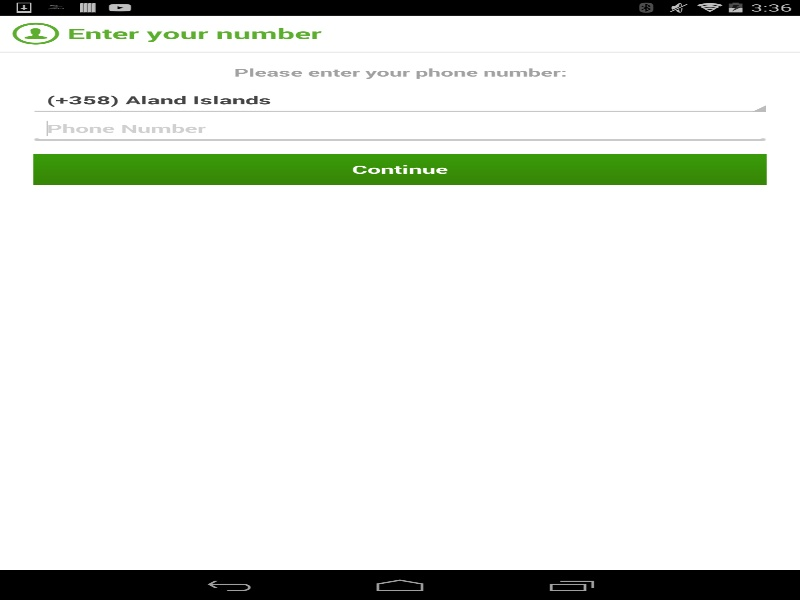Input: (33, 120, 766, 137)
